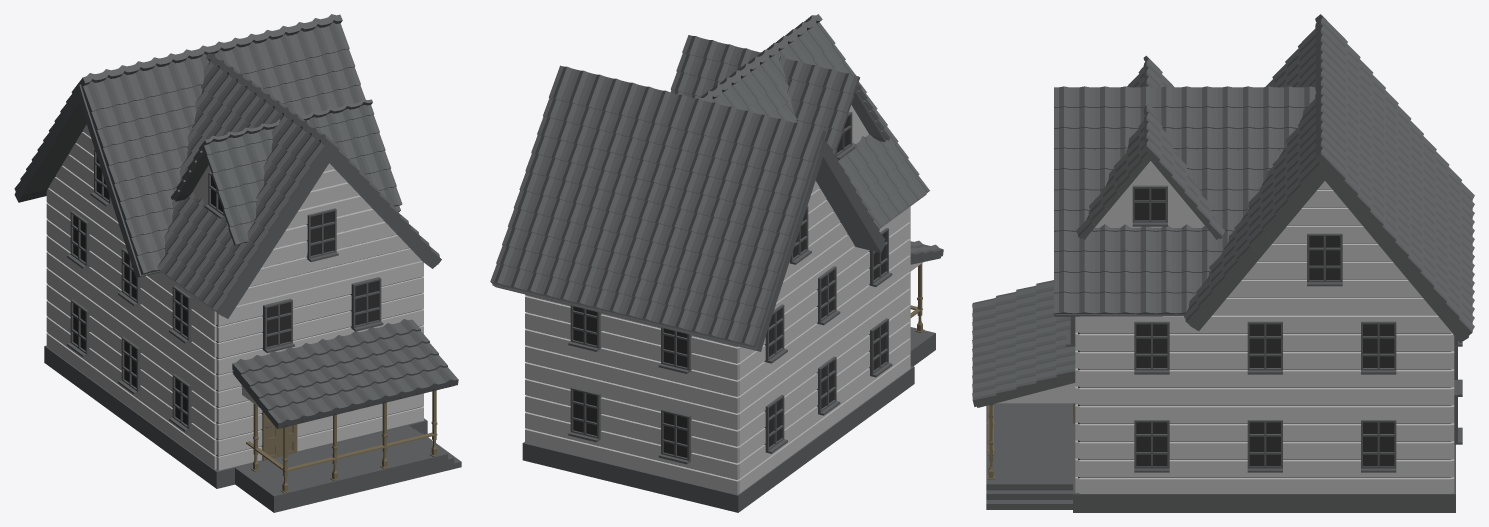
The model's file is House 1.glb.
3 views of the same model, side by side, from view 1: azimuth 30°, elevation 25°; view 2: azimuth 150°, elevation 25°; view 3: azimuth 270°, elevation 25° (orthographic). The views are drawn at different scales.
Visible parts, largest first — view 1: House1; view 2: House1; view 3: House1.
Part boxes in pixels (x1,y1,x2,y2): House1: (14,14,461,512); House1: (490,14,943,512); House1: (972,14,1474,512).
Size of the model in its own units: 2.56 by 3.18 by 3.87.
